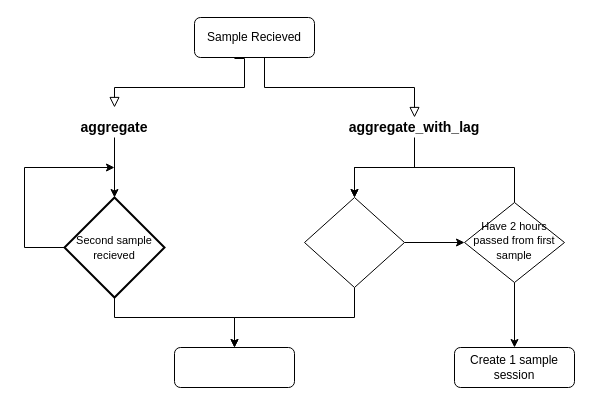
Image size: 592x405. Some labels were removed from this diagram. Each missing label, with the centre of its shape:
create 2 samples session: the point at 234,367
Second sample received: the point at 354,242
